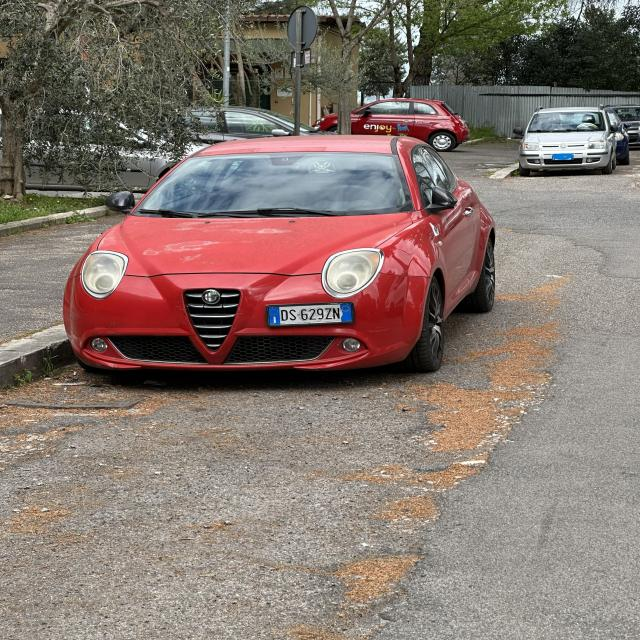number_plate: (267, 303, 353, 326)
